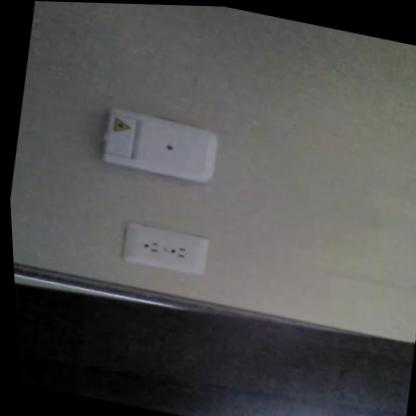OUTLET: (118, 220, 211, 277)
